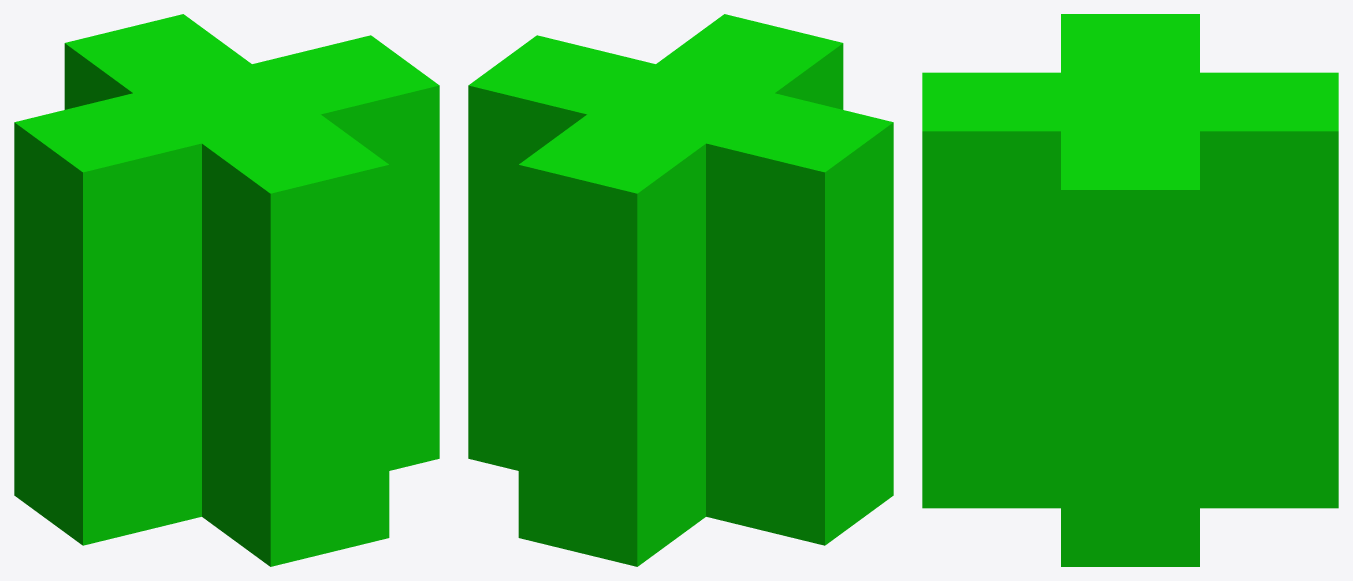
The model's file is wall_cross_1.fbx.
3 renders of one model, left to right at view 1: azimuth 30°, elevation 25°; view 2: azimuth 150°, elevation 25°; view 3: azimuth 270°, elevation 25°, orthographic.
Parts seen in each view (by area): view 1: wall_cross; view 2: wall_cross; view 3: wall_cross.
Part boxes in pixels (box(x1,y1,x2,y2)): wall_cross: box(14, 14, 439, 566); wall_cross: box(468, 14, 893, 566); wall_cross: box(922, 14, 1338, 566).
Size of the model in its own units: 3 by 3 by 3.
